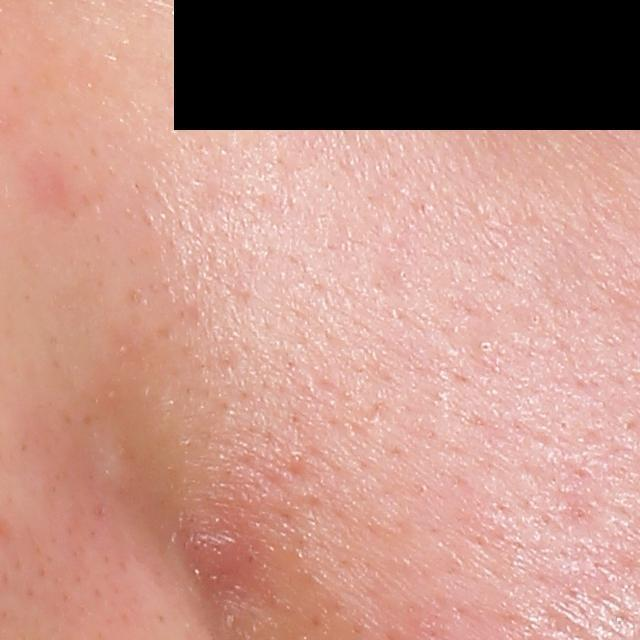comedo: (478, 339, 493, 354)
papule: (187, 523, 239, 580)
